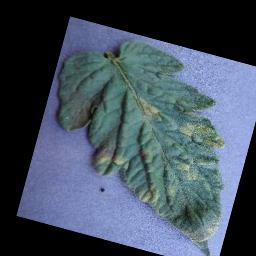Leaf_Mold: (176, 118, 229, 153), (127, 94, 166, 124), (91, 142, 129, 171), (173, 157, 207, 184), (134, 180, 162, 207)
